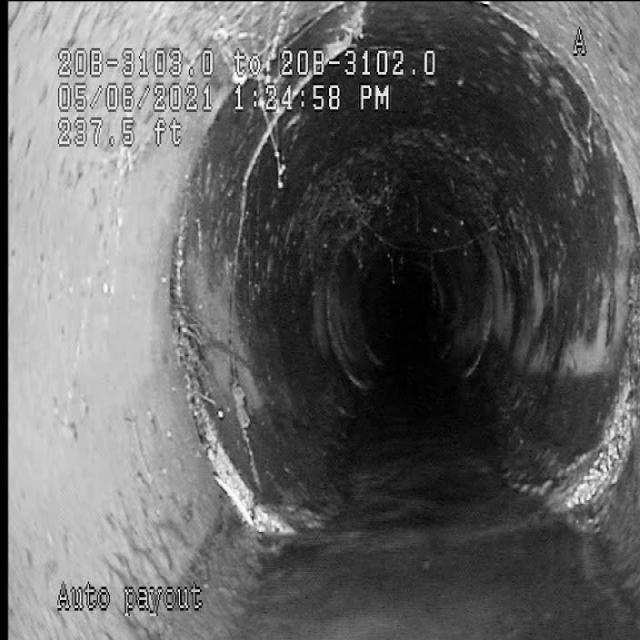Fracture: (208, 183, 266, 493)
